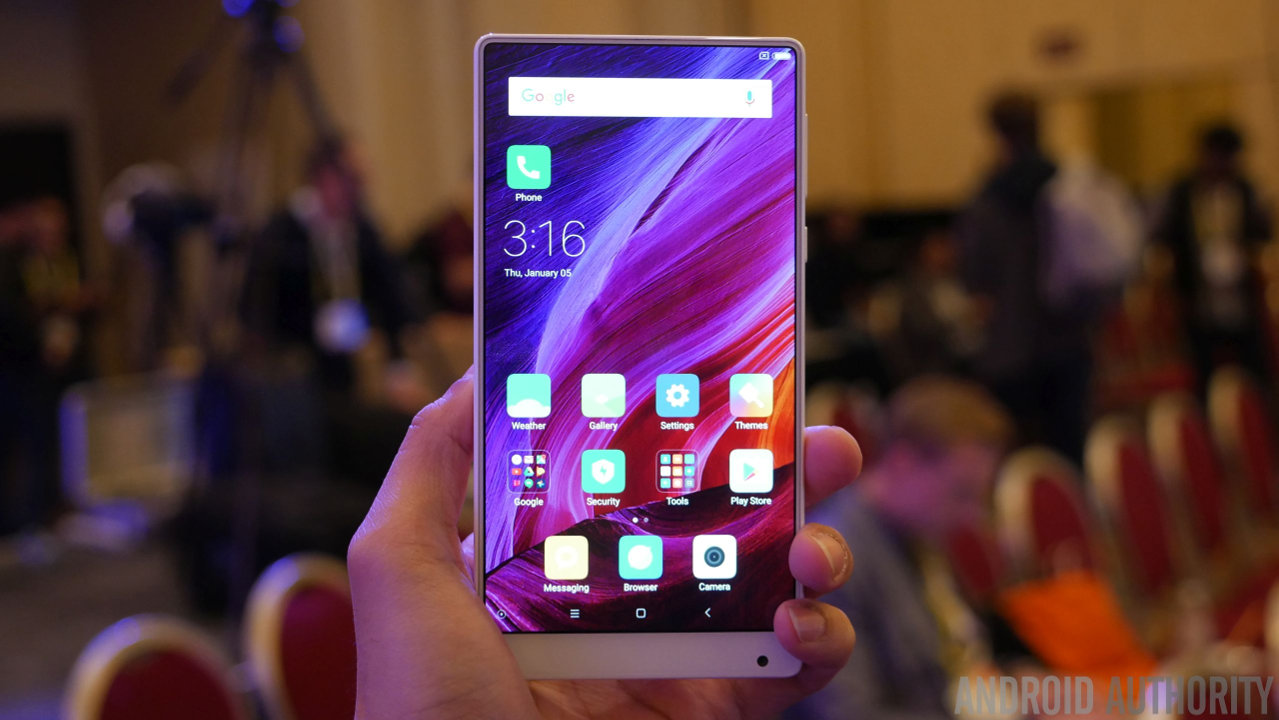smartphone: (474, 32, 810, 680)
